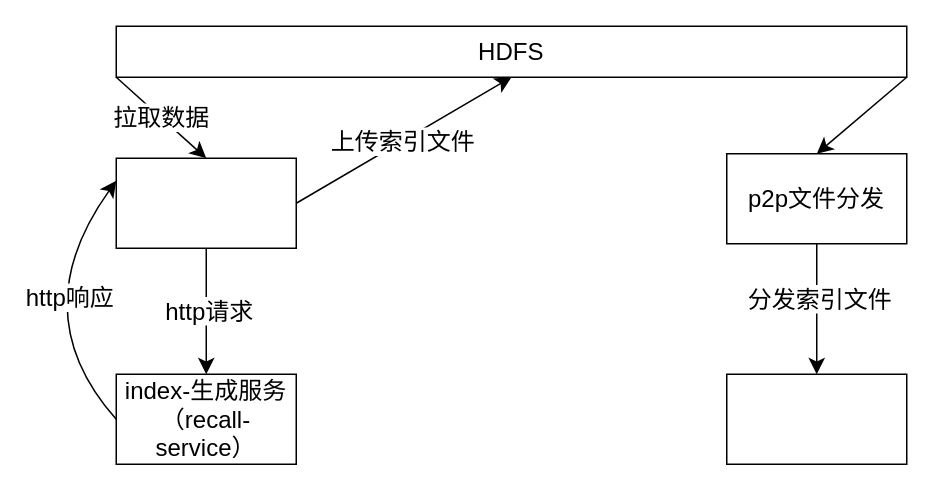
This 935x491 diagram has some shape labels left out. The centre of each missing label's shape, as x and y in pixels:
"index" goes at [205,202].
"recall-service（online）" goes at [816,418].
